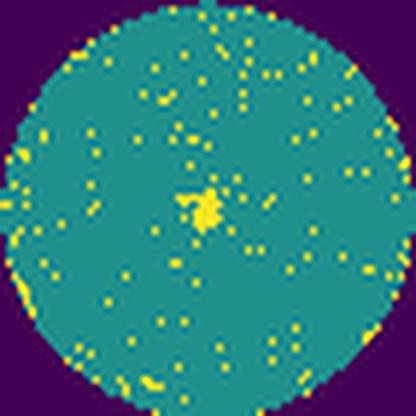Center: (174, 189, 224, 237)
